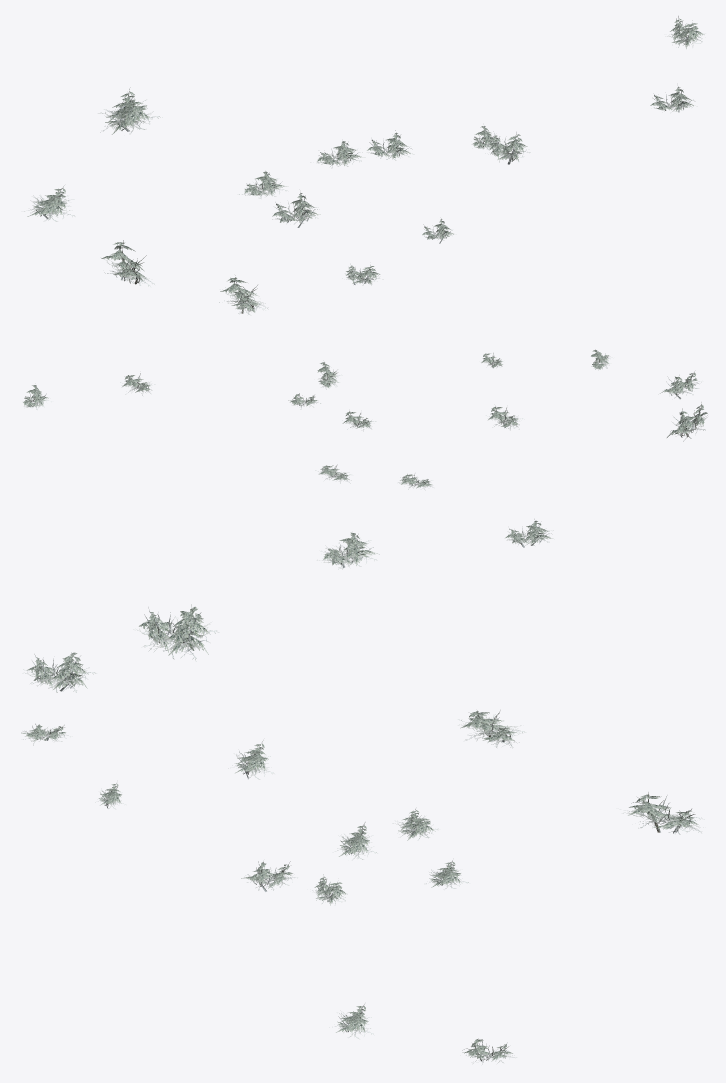
File: S_Tree_White014_2.FBX
3 views of the same model, one above another, from view 1: azimuth 30°, elevation 25°; view 2: azimuth 150°, elevation 25°; view 3: azimuth 270°, elevation 25° (orthographic). The views are drawn at different scales.
Parts seen in each view (by area): view 1: S_Tree_White014_014, S_Tree_White014_001, S_Tree_White014_013, S_Tree_White014_002, S_Tree_White014_004, S_Tree_White014_006, S_Tree_White014_010, S_Tree_White014_012, S_Tree_White014_008, S_Tree_White014_009, S_Tree_White014_011; view 2: S_Tree_White014_014, S_Tree_White014_001, S_Tree_White014_013, S_Tree_White014_002, S_Tree_White014_004; view 3: S_Tree_White014_001, S_Tree_White014_002, S_Tree_White014_014, S_Tree_White014_013.
Boxes of the visible parts, x1,y1,x2,y2 form: S_Tree_White014_014: [98, 87, 162, 134]; S_Tree_White014_001: [100, 240, 154, 287]; S_Tree_White014_013: [24, 185, 75, 221]; S_Tree_White014_002: [219, 275, 268, 315]; S_Tree_White014_004: [272, 192, 320, 227]; S_Tree_White014_006: [485, 131, 530, 164]; S_Tree_White014_010: [310, 141, 364, 168]; S_Tree_White014_012: [665, 16, 705, 48]; S_Tree_White014_008: [367, 130, 413, 160]; S_Tree_White014_009: [239, 171, 288, 198]; S_Tree_White014_011: [650, 86, 693, 112]; S_Tree_White014_014: [317, 532, 379, 569]; S_Tree_White014_001: [667, 402, 707, 441]; S_Tree_White014_013: [505, 519, 553, 547]; S_Tree_White014_002: [660, 371, 701, 399]; S_Tree_White014_004: [486, 406, 524, 430]; S_Tree_White014_001: [133, 604, 219, 661]; S_Tree_White014_002: [22, 652, 96, 692]; S_Tree_White014_014: [620, 792, 704, 834]; S_Tree_White014_013: [458, 710, 526, 748].
Bounding box in the file's own units: 14926 × 10890 × 1960.
